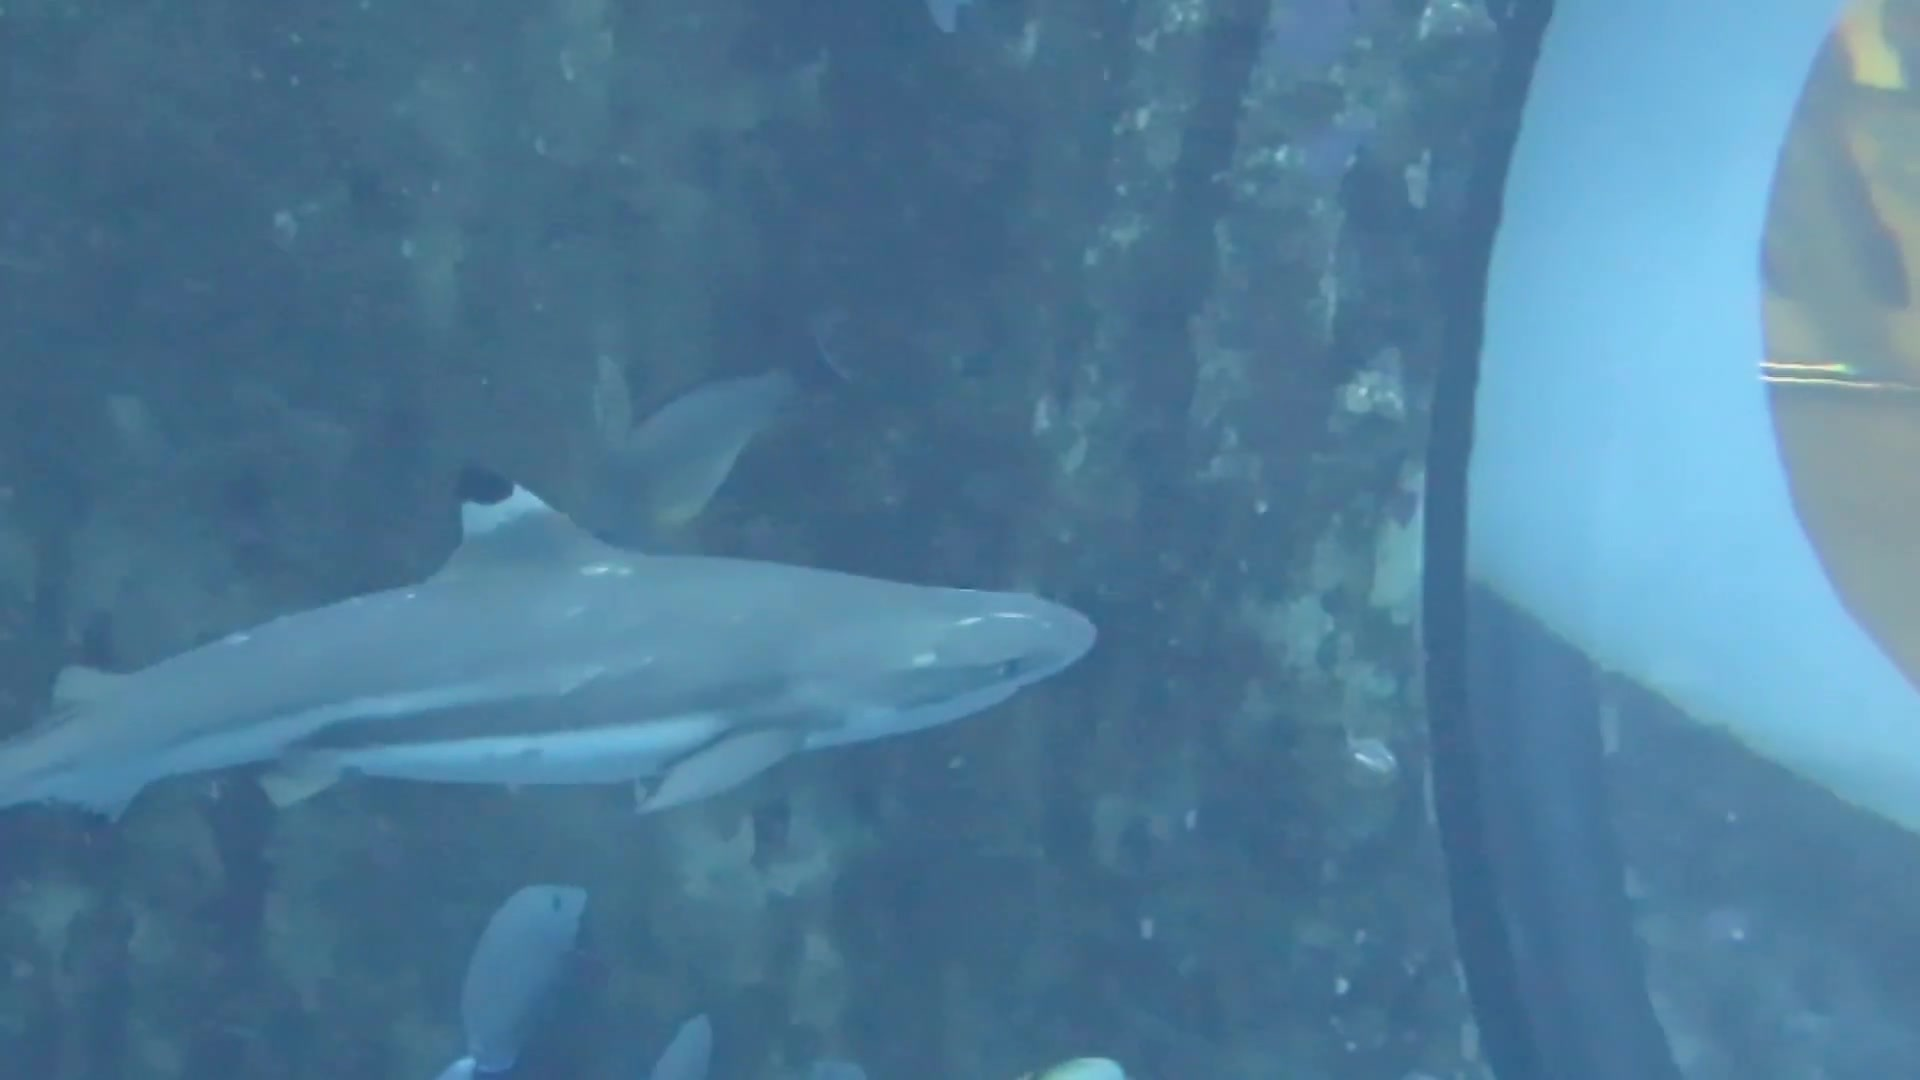Carcharhinus melanopterus: (1, 448, 1112, 874)
